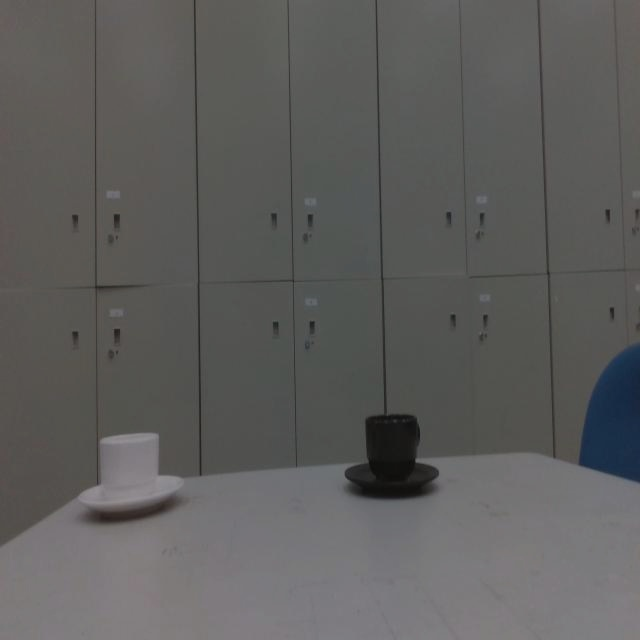black: (342, 404, 442, 502)
white: (72, 422, 186, 523)
